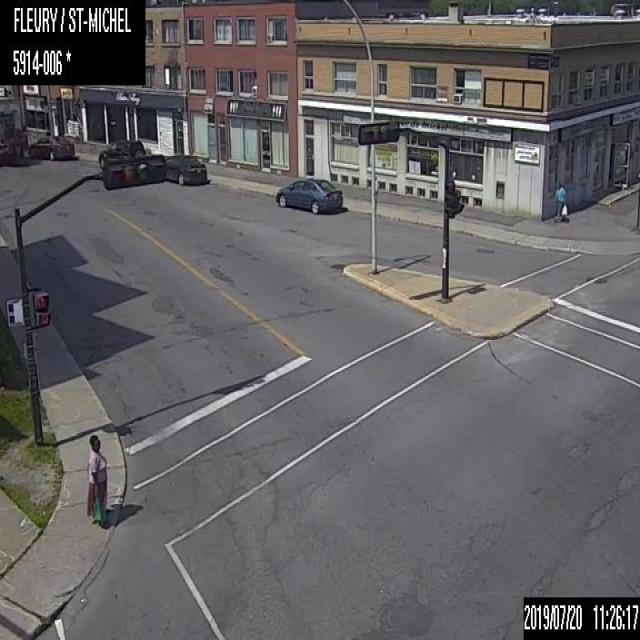pedestrian: (85, 435, 109, 528), (555, 182, 567, 222)
vehicle: (275, 176, 342, 213), (0, 95, 26, 165), (98, 139, 146, 168), (165, 156, 208, 184), (28, 136, 74, 159)
